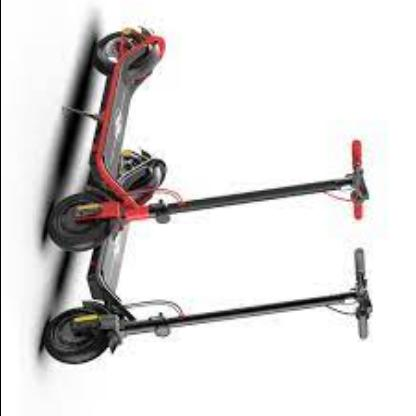bike: (39, 25, 376, 369)
